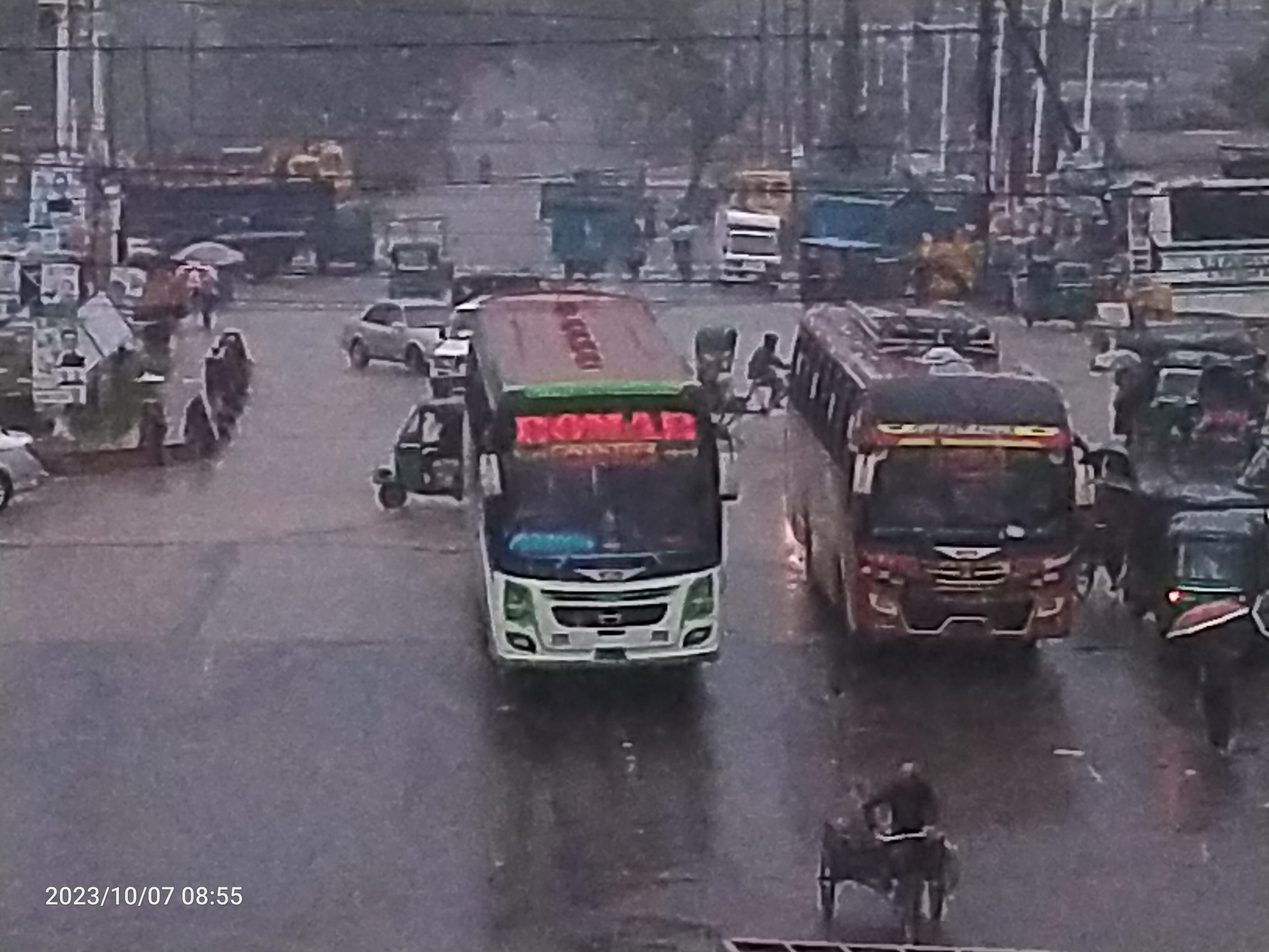Bus: (755, 287, 1106, 699), (443, 272, 761, 717), (1100, 158, 1269, 329)
Car: (322, 285, 476, 384), (683, 196, 799, 307)
